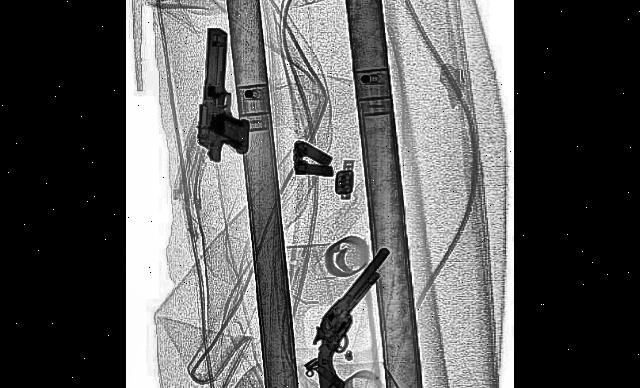Gun: (302, 241, 412, 388), (197, 26, 255, 170)
